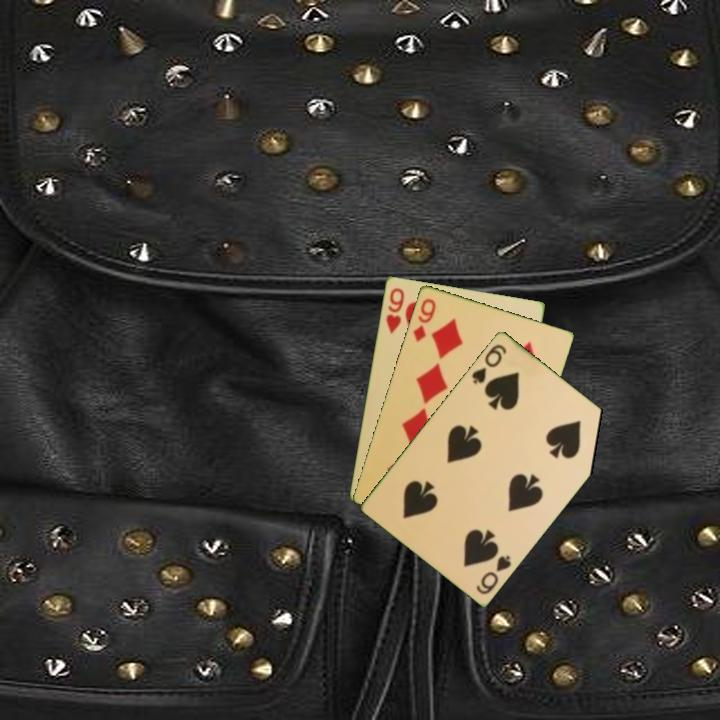6s: (468, 340, 509, 386), (473, 551, 514, 597)
9d: (409, 294, 439, 345)
9h: (382, 284, 407, 336)
